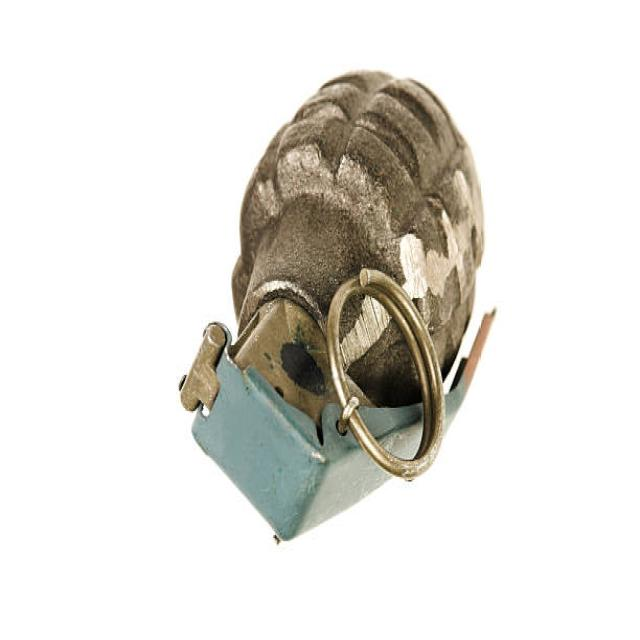grenade: (176, 65, 501, 556)
